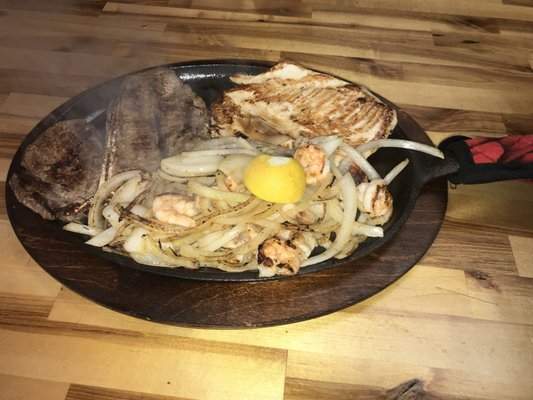soup: (8, 118, 106, 226)
